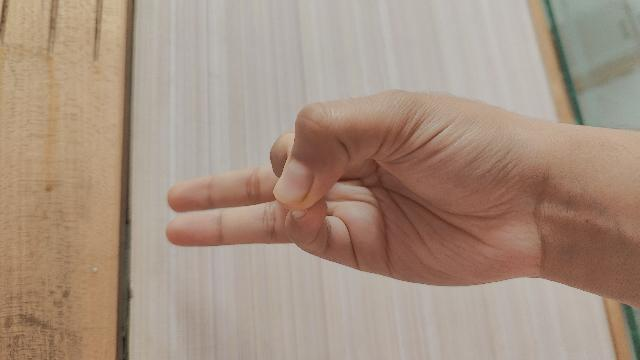katak: (166, 90, 640, 312)
